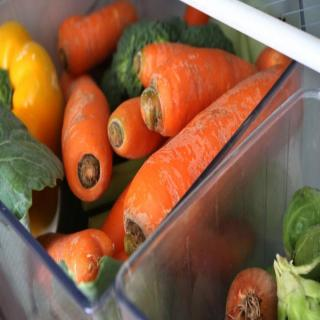carrot: (123, 60, 301, 260), (62, 65, 112, 201)
